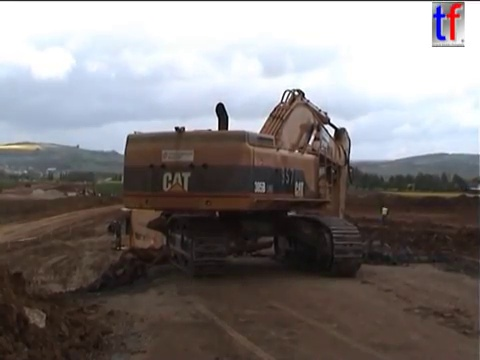excavator: (119, 86, 367, 278), (72, 184, 102, 201)
truck: (107, 202, 277, 281), (22, 179, 35, 190)
worker: (379, 202, 391, 223)
